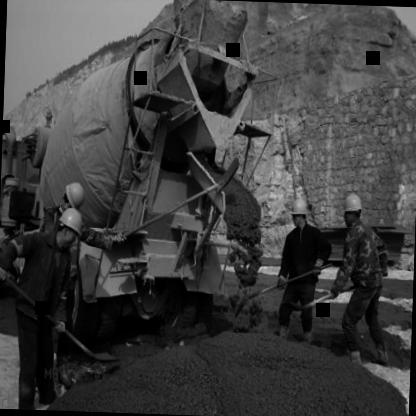helmet: (56, 204, 83, 252), (343, 191, 364, 229), (59, 183, 88, 210), (290, 194, 310, 230)
